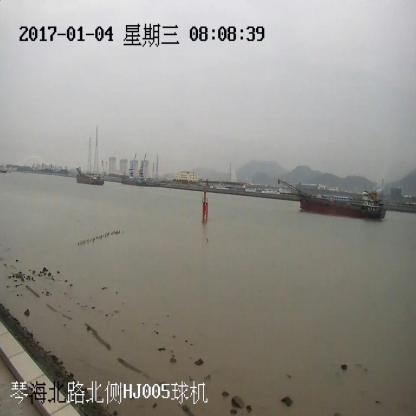Bulk Carrier: (279, 180, 385, 221), (77, 168, 104, 186)
